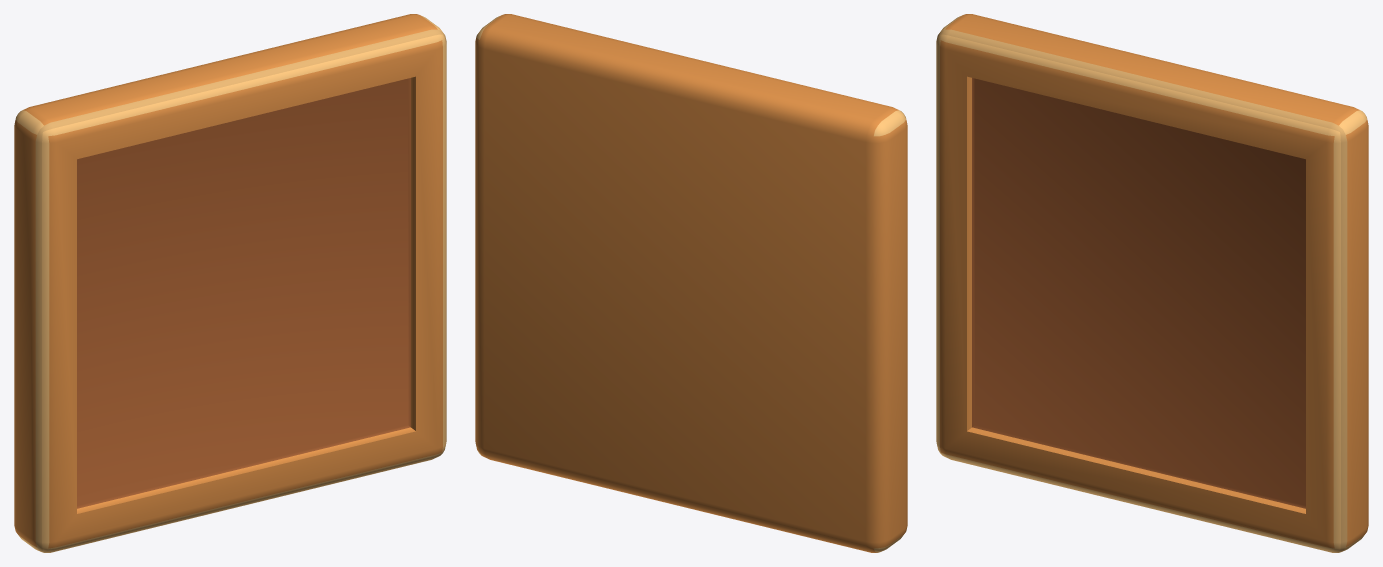
Rendered from UpgradePanel.fbx.
3 renders of one model, left to right at view 1: azimuth 30°, elevation 25°; view 2: azimuth 150°, elevation 25°; view 3: azimuth 330°, elevation 25°, orthographic.
Parts seen in each view (by area): view 1: UpgradePanel; view 2: UpgradePanel; view 3: UpgradePanel.
Boxes of the visible parts, box(x1,y1,x2,y2) form: UpgradePanel: box(14, 14, 446, 552); UpgradePanel: box(475, 14, 907, 552); UpgradePanel: box(936, 14, 1368, 552).
Bounding box in the file's own units: 212 × 212 × 29.
